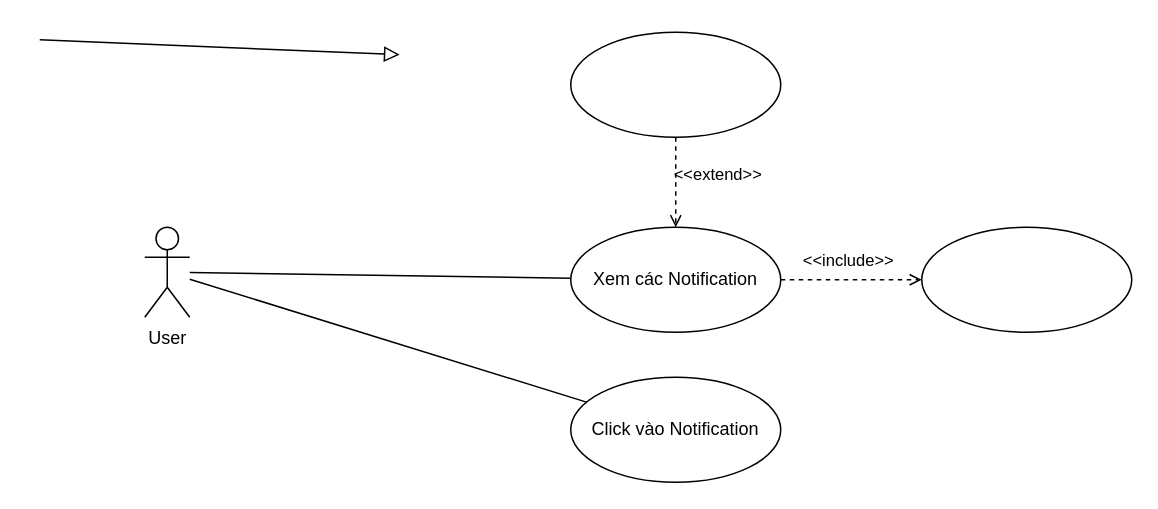
Some shapes in this 1158 by 509 pixel diagram are drawn without their labels. Here are the shapes that lost their labels. From the top down, the centre of each, then its label:
(x=675, y=84): Cập nhật Notification
(x=1026, y=279): Thay đổi trạng thái đã xem
